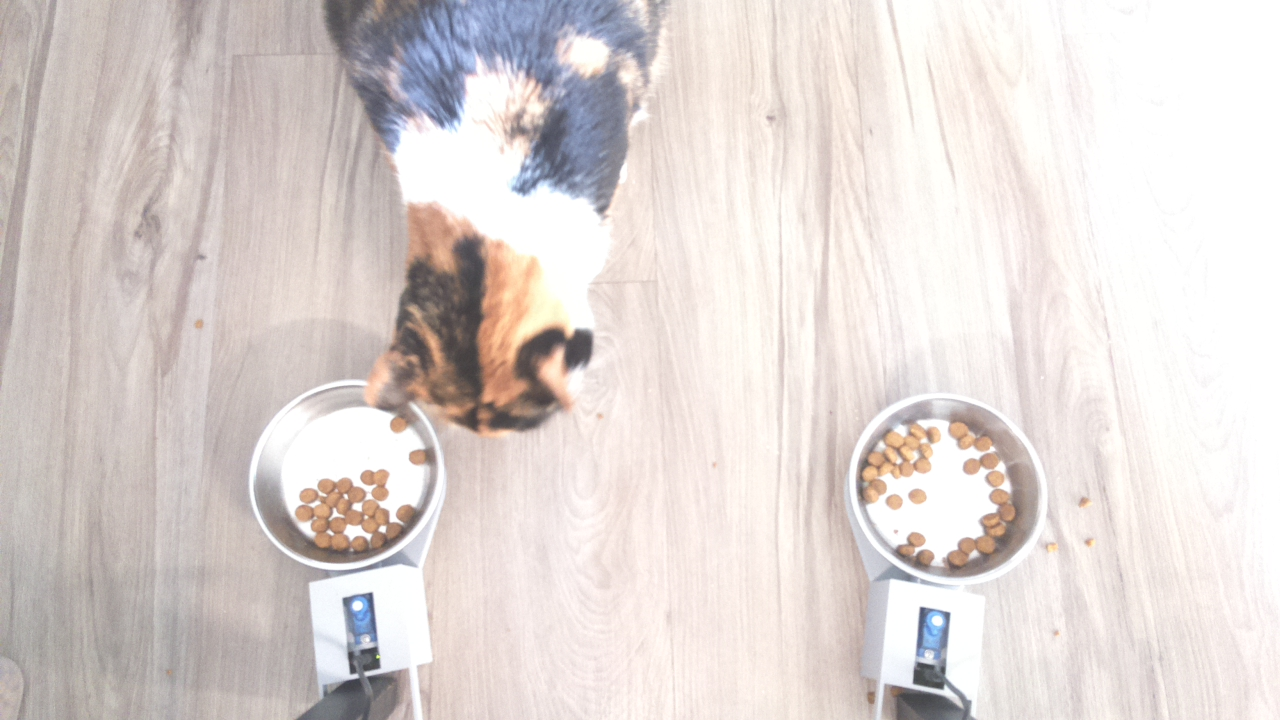bella: (358, 180, 620, 440)
open_bowl: (839, 386, 1057, 587), (244, 377, 444, 580)
